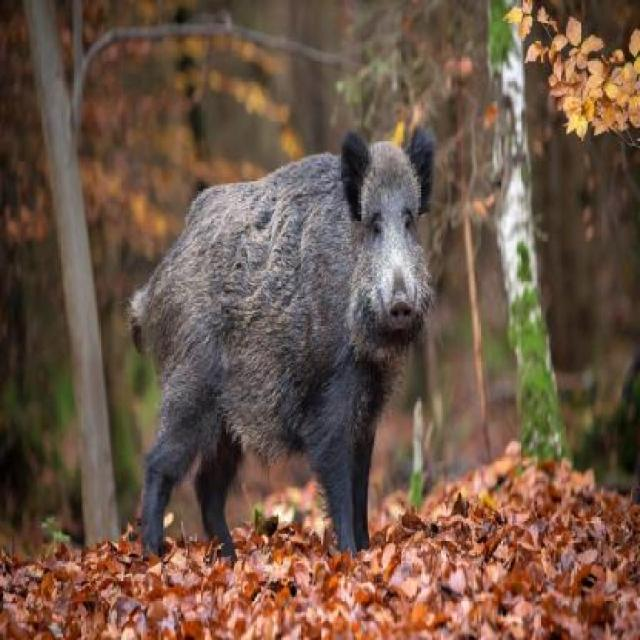wildboar: (123, 120, 440, 572)
